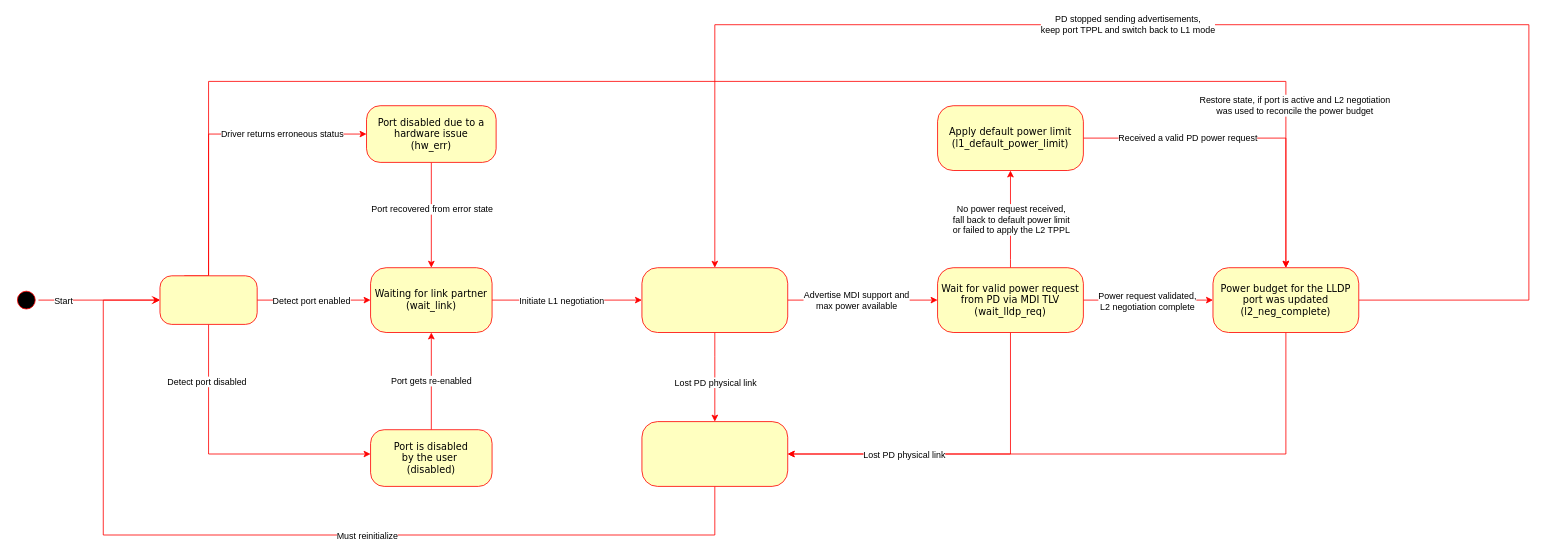
This 1550x556 diagram has some shape labels left out. The centre of each missing label's shape, as x and y in pixels:
"Connection reset due to internal or external reason (conn_reset)" belongs at point 714,453.
"L1 negotiation completed, delivering power (l1_neg_complete)" belongs at point 714,300.
"Uninitialized (uninit)" belongs at point 208,299.
